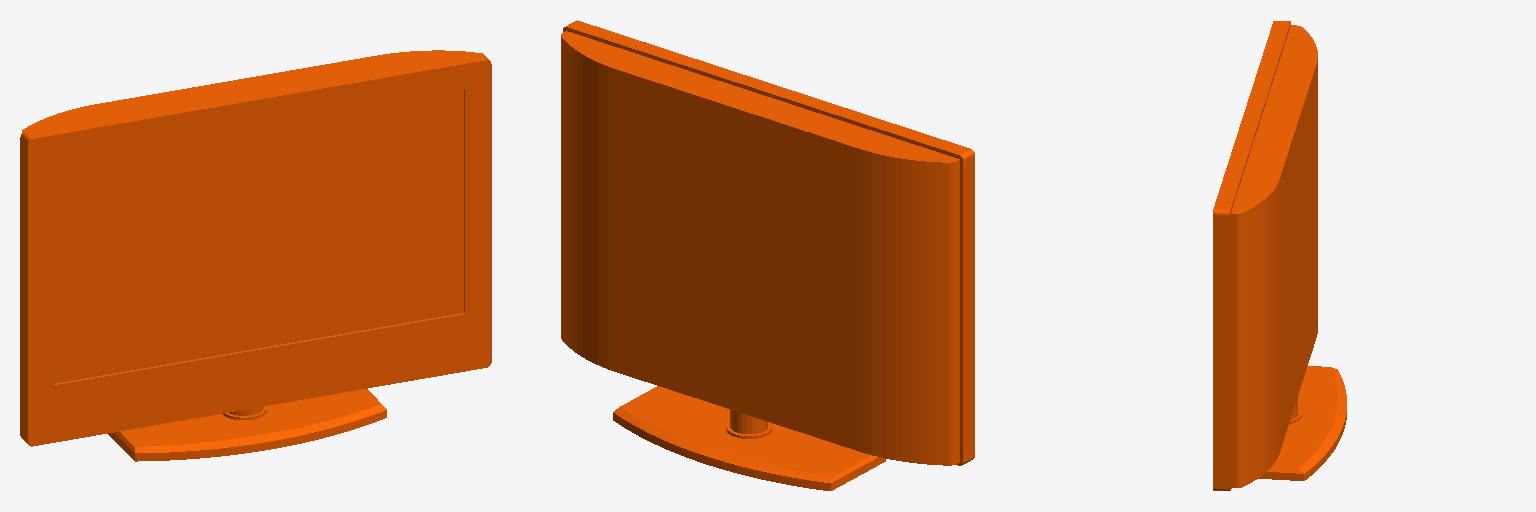
robot.urdf — TV_d1bebef6e1845fd375e9e061ab95f12b:
<?xml version="1.0" ?>
<robot name="TV_d1bebef6e1845fd375e9e061ab95f12b">
   <material name="obj_color">
      <color rgba="1.0 0.423529411765 0.0392156862745 1.0"/>
   </material>
   <link name="top">
      <inertial>
         <origin rpy="0.003575114764993333 0.005033098182082631 0.008141809917953415" xyz="0.00220259876499949 -0.0001441931897214638 -0.00121344120934669"/>
         <mass value="1.442482258963434"/>
         <inertia ixx="0.003657057088658204" ixy="0.000606050102156827" ixz="1.148951562403772e-05" iyy="0.00805749591169618" iyz="8.506023776833816e-05" izz="0.005035469864675"/>
      </inertial>
      <visual>
         <origin rpy="0 0 0" xyz="0 0 0"/>
         <geometry>
            <mesh filename="top_watertight_tiny.stl" scale="1 1 1"/>
         </geometry>
         <material name="obj_color"/>
      </visual>
      <collision>
         <origin rpy="0 0 0" xyz="0 0 0"/>
         <geometry>
            <mesh filename="top_watertight_tiny.obj" scale="1 1 1"/>
         </geometry>
      </collision>
   </link>
   <link name="bottom">
      <inertial>
         <origin rpy="1.633333333199431e-08 1.633333333199431e-08 1.633333333362855e-08" xyz="0.3464080000000008 0.3464080000000008 0.3464080000000008"/>
         <mass value="0.0009800000000000017"/>
         <inertia ixx="1.633333333253906e-08" ixy="5.447480642029219e-19" ixz="5.447480642029219e-19" iyy="1.633333333253906e-08" iyz="5.447480642029219e-19" izz="1.633333333253906e-08"/>
      </inertial>
      <visual>
         <origin rpy="0 0 0" xyz="0 0 0"/>
         <geometry>
            <mesh filename="bottom_watertight_tiny.stl" scale="1 1 1"/>
         </geometry>
         <material name="obj_color"/>
      </visual>
   </link>
   <joint name="rotation" type="revolute">
      <origin xyz="0 0 0"/>
      <axis xyz="0 0 -1"/>
      <parent link="bottom"/>
      <child link="top"/>
      <dynamics damping="1.0" friction="1.0"/>
      <limit effort="0.1" velocity="0.1" lower="0" upper="0.001"/>
   </joint>
</robot>

--- Facts derived from the render (not from the file) ---
Views: 3 orthographic renders of the robot side by side, from view 1: azimuth 30°, elevation 25°; view 2: azimuth 150°, elevation 25°; view 3: azimuth 270°, elevation 25°.
Model TV_d1bebef6e1845fd375e9e061ab95f12b with 2 links and 1 joints (1 revolute), rooted at bottom, posed all joints at 0.
Links seen in each view (by area): view 1: top; view 2: top; view 3: top.
Boxes of the visible links, x1=… form: top: x1=20, y1=50, x2=491, y2=461; top: x1=561, y1=20, x2=974, y2=490; top: x1=1213, y1=21, x2=1346, y2=490.
Bounding box of the posed robot: 0.2308 × 0.0679 × 0.1728 m (x, y, z).
1 mesh visuals loaded from 2 distinct referenced files (1 binary STL); not drawn: 1 (reference not matched to a file when rendering).
